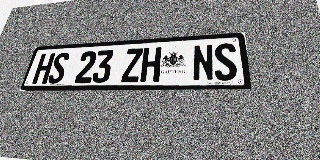2: (74, 51, 97, 83)
3: (91, 50, 114, 83)
H: (140, 47, 162, 82), (32, 53, 55, 84)
N: (193, 44, 214, 81)
S: (214, 43, 238, 81), (47, 52, 70, 84)
Z: (121, 48, 143, 82)
